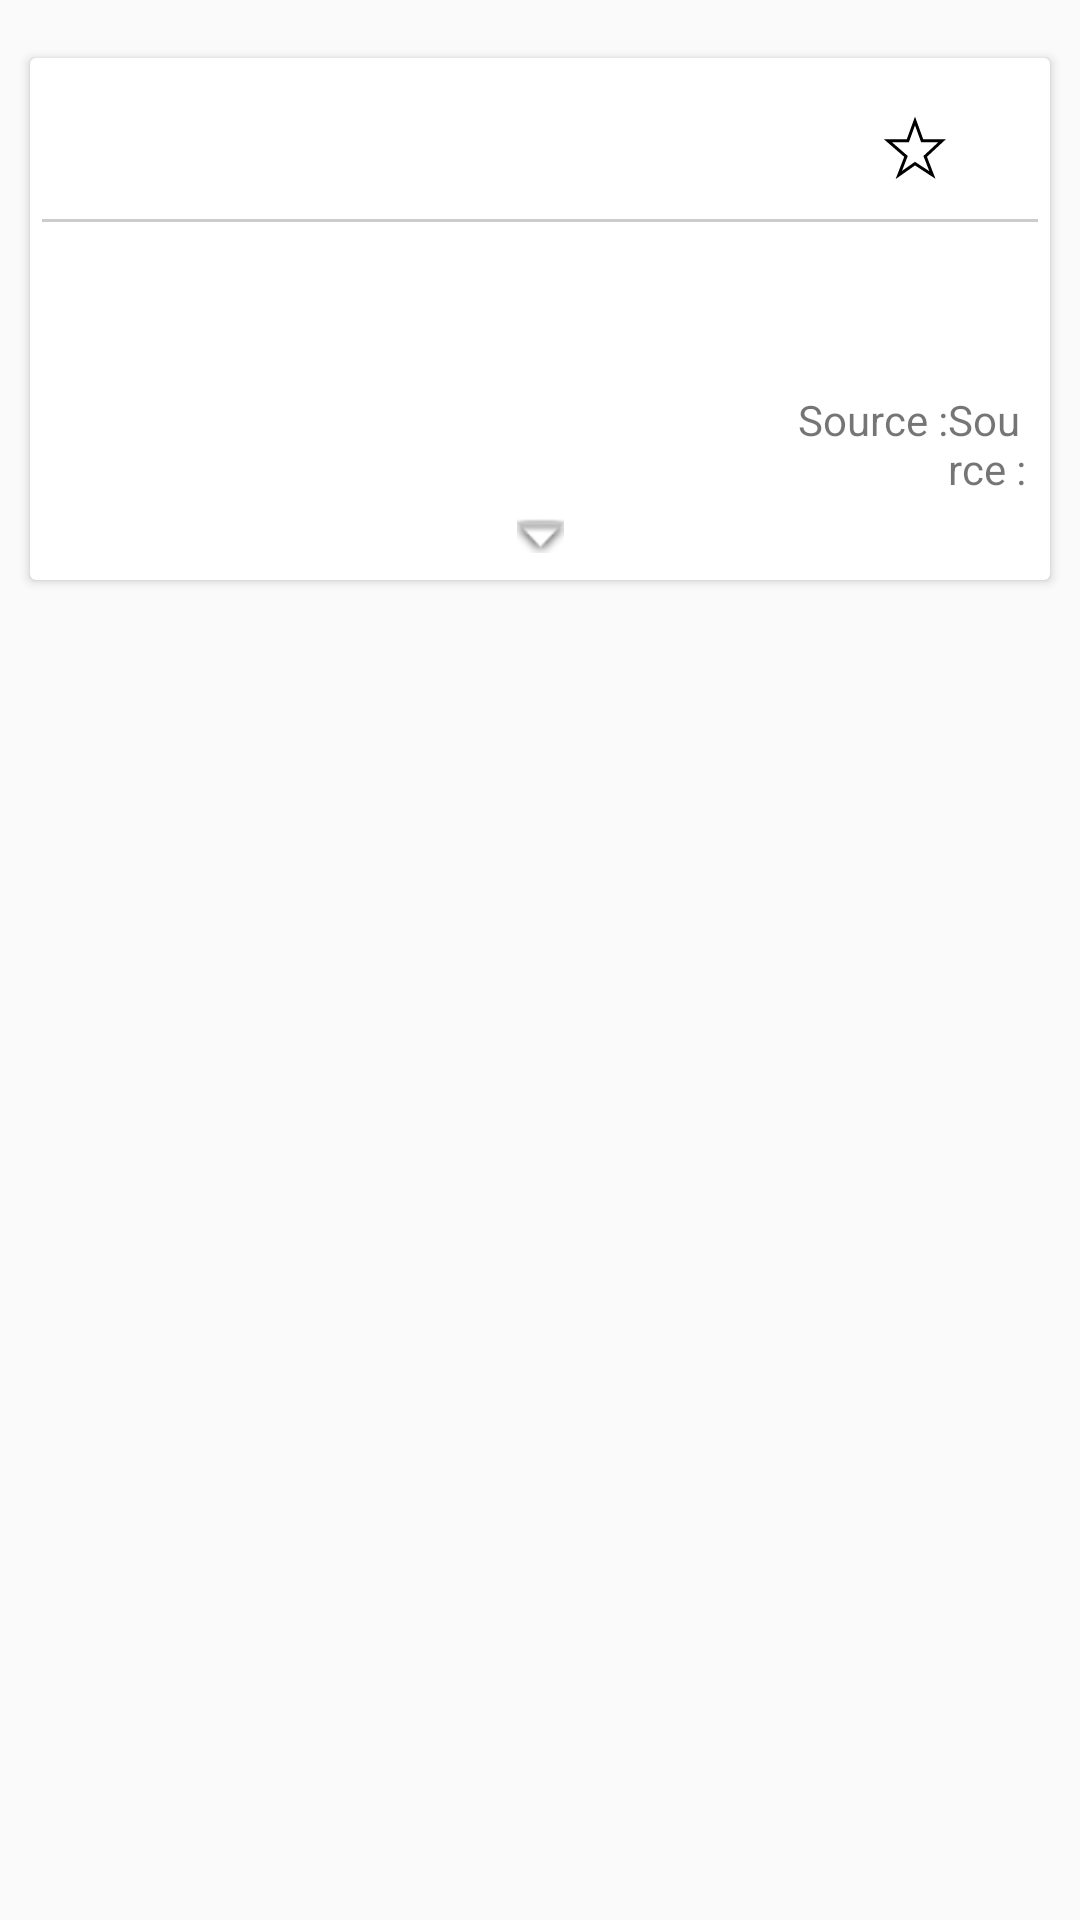

Icons on this 1080x1920 Android screen, each with the point to tap as point (x, y):
arrow down float: point (540, 536)
star: point (915, 148)
